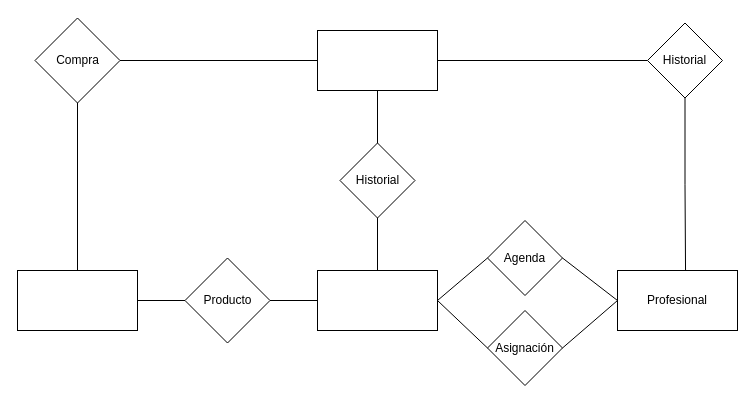
The diagram is 755 pixels wide and 403 high, and some of its shapes have lost their labels. Each missing label, with the centre of its shape:
"Cliente" belongs at point (377, 60).
"Servicio" belongs at point (377, 300).
"Tienda,Inventario y Proveedor" belongs at point (77, 300).
